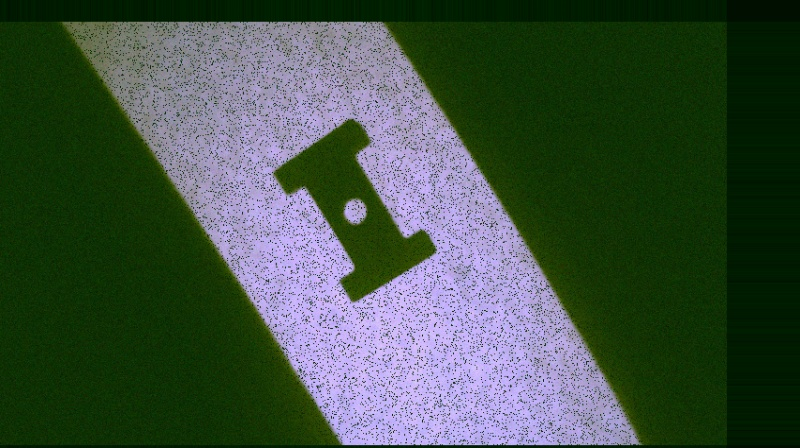O002: (269, 116, 441, 305)
